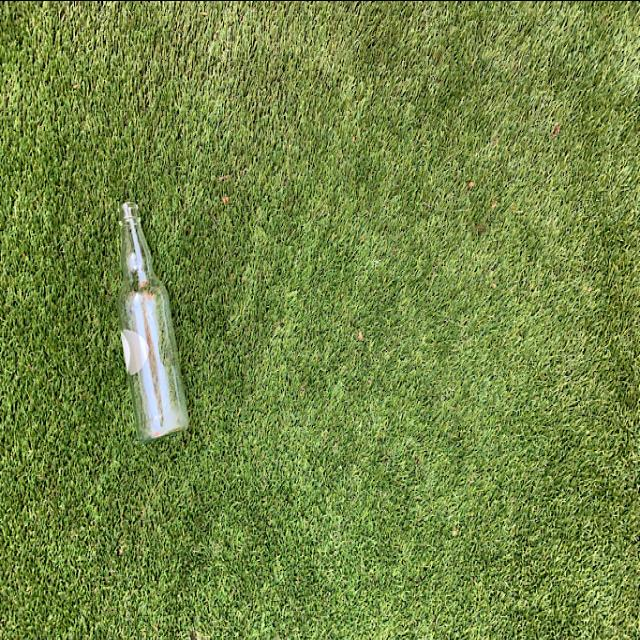PET: (88, 169, 218, 479)
